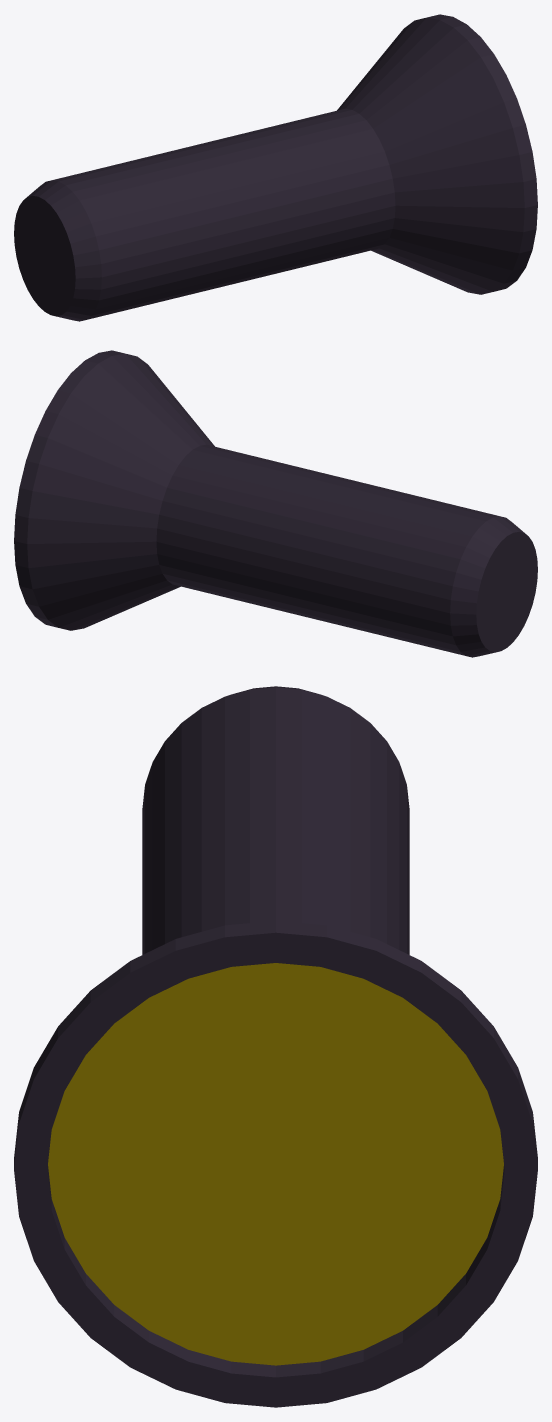
Rendered from flashlight.glb.
3 renders of one model, top to bottom at view 1: azimuth 30°, elevation 25°; view 2: azimuth 150°, elevation 25°; view 3: azimuth 270°, elevation 25°, orthographic. The views are drawn at different scales.
Parts seen in each view (by area): view 1: Cylinder; view 2: Cylinder; view 3: Cylinder.
Boxes of the visible parts, x1,y1,x2,y2 form: Cylinder: (14,14,537,321); Cylinder: (14,350,537,657); Cylinder: (14,686,537,1407).
Size of the model in its own units: 4.58 by 2.67 by 2.67.
